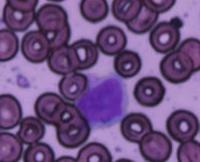M: (73, 72, 130, 127)
